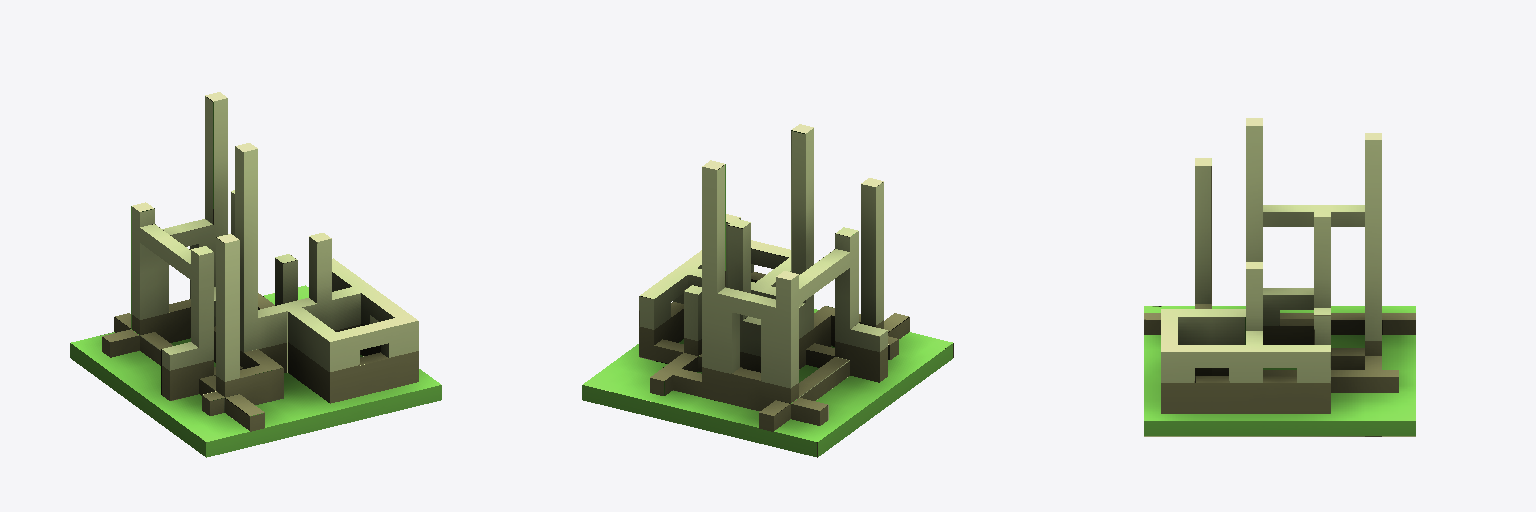
3 renders of one model, left to right at view 1: azimuth 30°, elevation 25°; view 2: azimuth 150°, elevation 25°; view 3: azimuth 270°, elevation 25°, orthographic.
Parts seen in each view (by area): view 1: hello_001.bake; view 2: hello_001.bake; view 3: hello_001.bake.
Boxes of the visible parts, x1=… form: hello_001.bake: x1=70, y1=92, x2=441, y2=457; hello_001.bake: x1=582, y1=124, x2=953, y2=457; hello_001.bake: x1=1144, y1=118, x2=1415, y2=436.
Size of the model in its own units: 16 by 16 by 16.
1 materials, 1 textured.